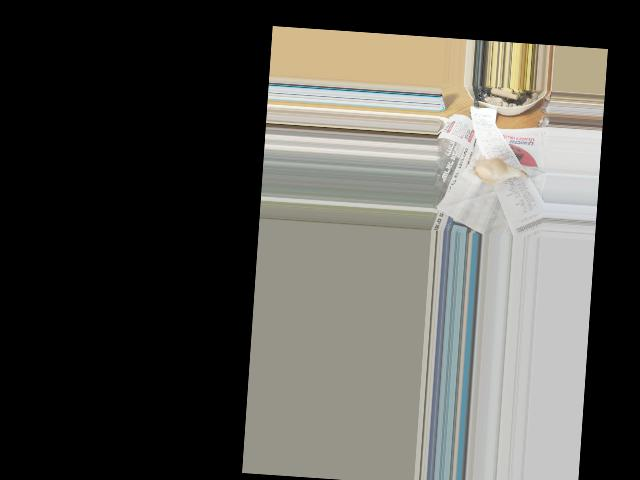onion: (473, 158, 516, 184)
